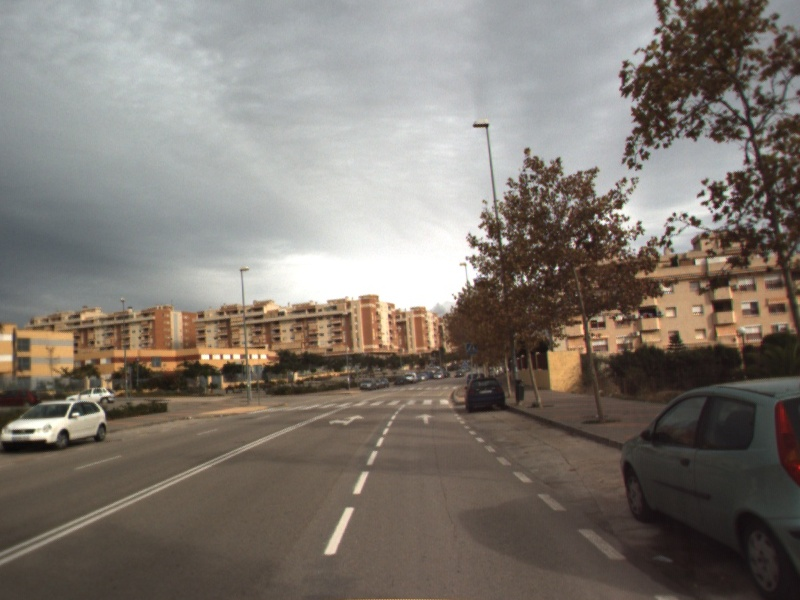STRAIGHT: (413, 411, 437, 425)
STRAIGHT_LEFT: (327, 412, 366, 427)
